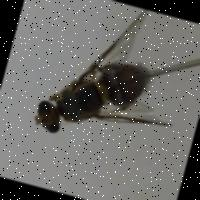Oriental-fruit-fly: (25, 0, 197, 168)
